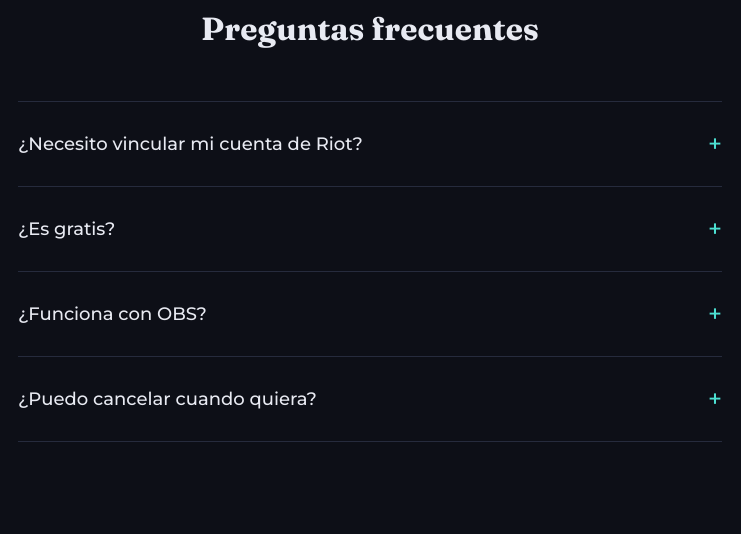
Scenario: Faq › pulsar una pregunta muestra su respuesta
What coordinates should you click on to do the following:
click the button "¿Funciona con OBS?"
I would click on:
 (112, 314)
Its box is [18,272,722,356].
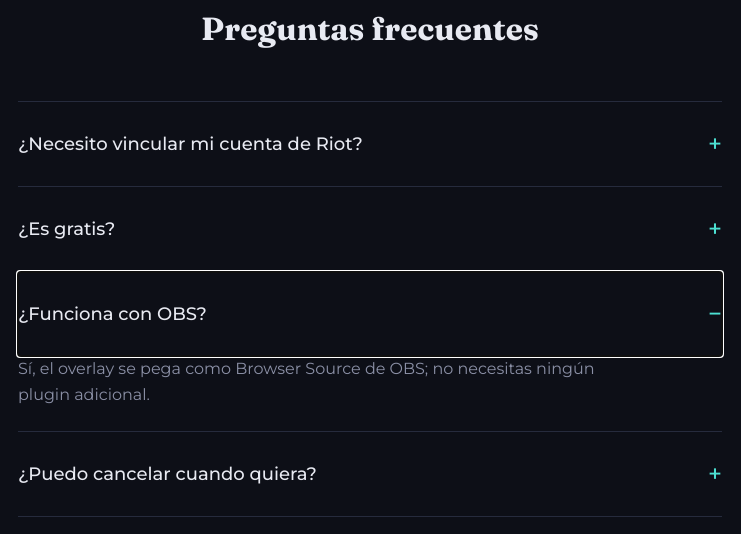
Check: the text "Browser Source" is shown, box [18,359,594,404]
